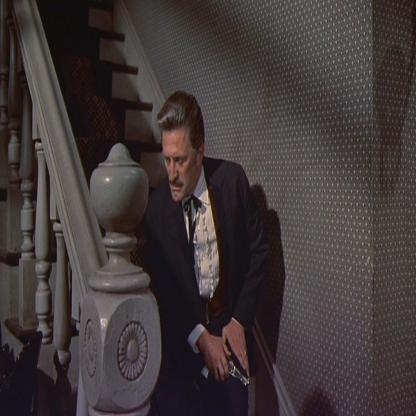gun: (216, 336, 254, 397)
